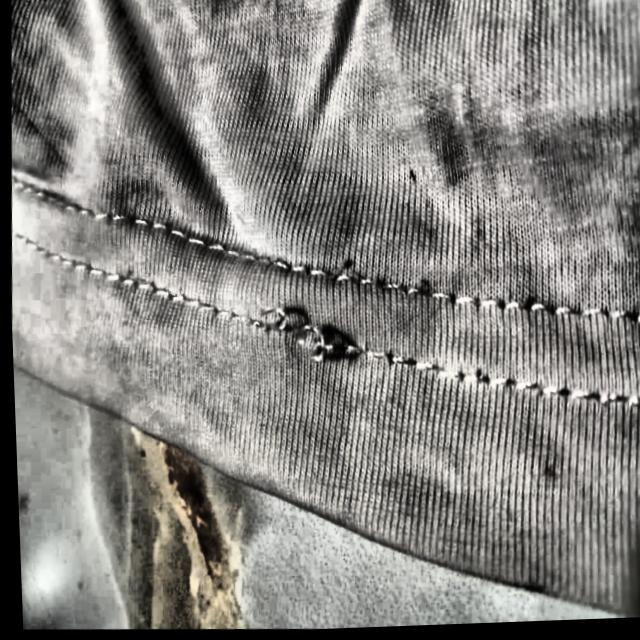Stitch: (245, 280, 380, 389)
